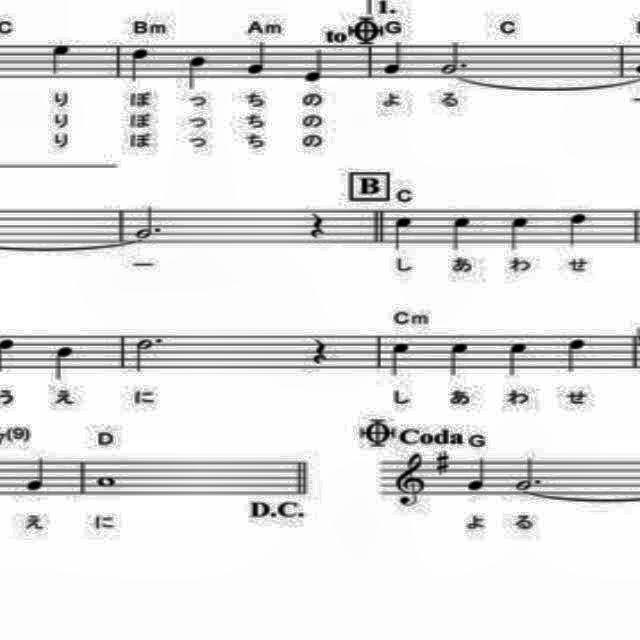Diez: (432, 446, 452, 478)
Full-note: (90, 472, 122, 492)
Half-dot: (132, 328, 172, 382), (437, 36, 479, 78), (513, 452, 547, 496), (132, 203, 164, 241)
Quarter-note: (383, 336, 421, 382), (501, 336, 534, 384), (382, 214, 422, 253), (44, 334, 76, 382), (122, 41, 154, 88), (447, 206, 478, 254), (47, 38, 79, 82), (564, 203, 594, 249), (296, 46, 332, 84), (506, 212, 536, 256), (183, 53, 213, 95), (444, 339, 474, 381), (22, 452, 50, 496), (242, 38, 270, 78), (380, 38, 408, 78), (564, 334, 590, 376), (464, 454, 490, 494)
Quarter-rest: (304, 202, 332, 244), (308, 333, 336, 371)
Treble-clef: (393, 448, 431, 512)
